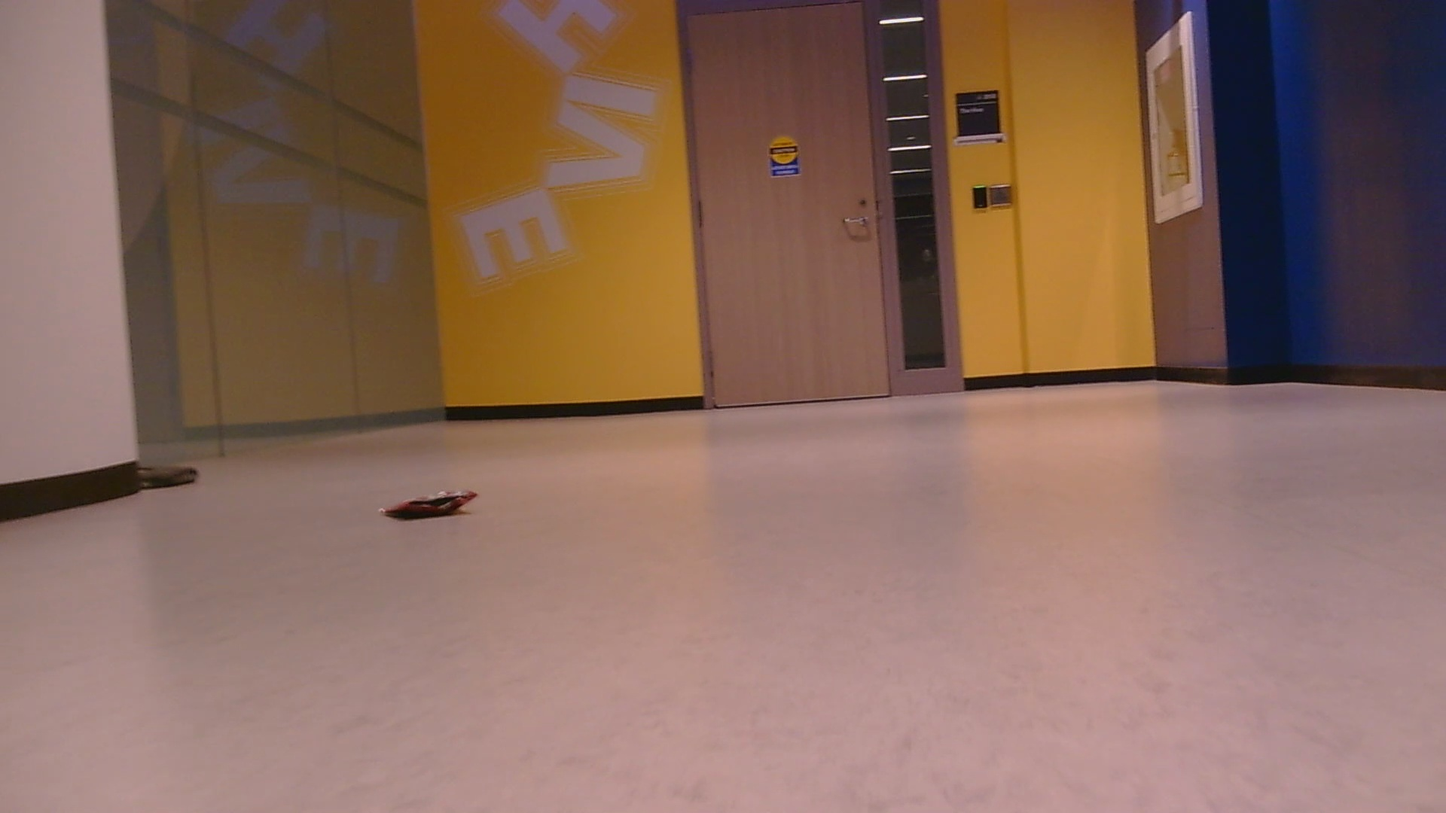can: (377, 489, 479, 524), (137, 458, 199, 492)
